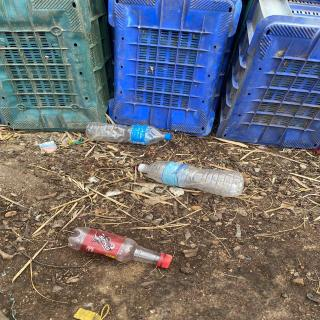Plastic-bottle: (66, 224, 177, 274), (136, 160, 247, 200), (83, 119, 175, 149)
